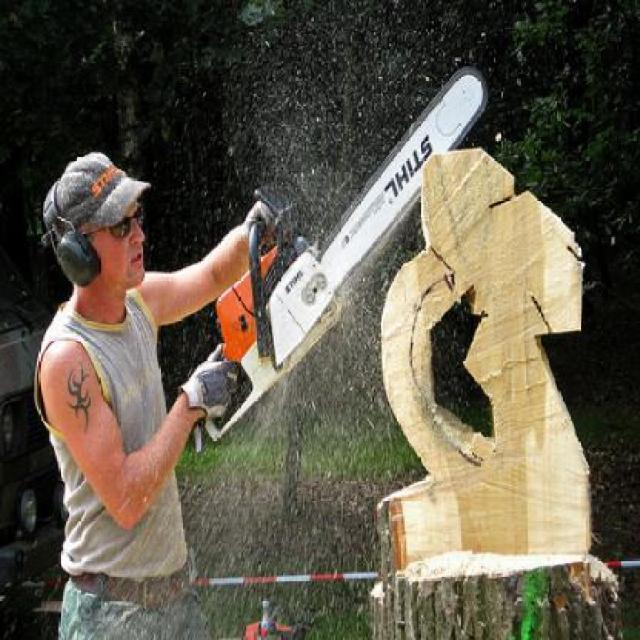Chainsaw: (177, 60, 488, 452)
